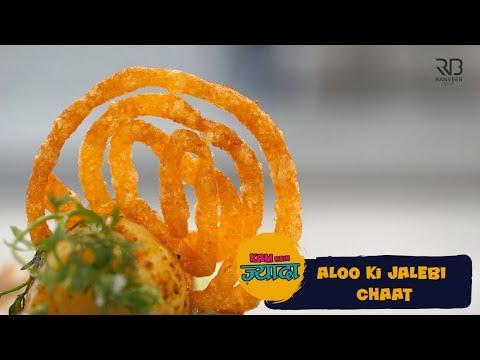jalebi: (46, 78, 293, 307)
